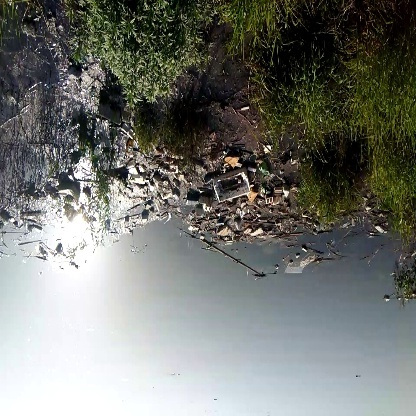branch: (202, 237, 272, 284)
